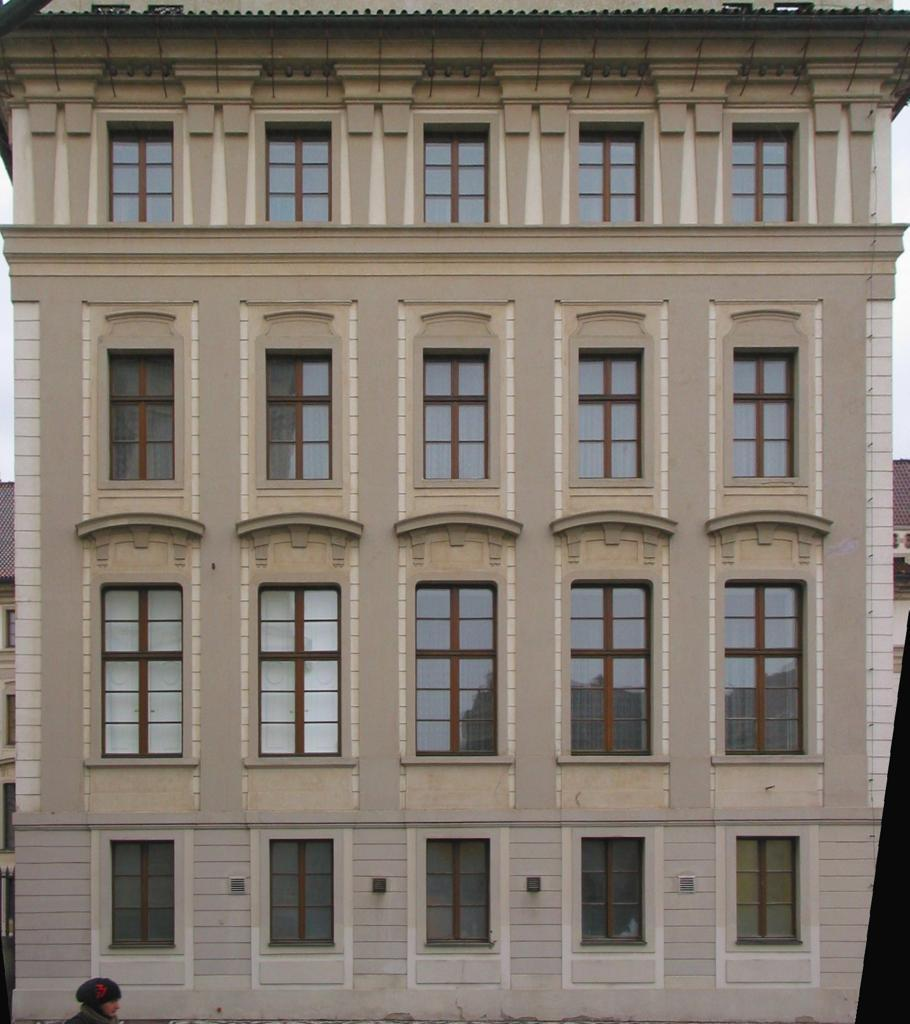window: (259, 583, 342, 757), (725, 579, 807, 755), (101, 583, 183, 758), (572, 580, 653, 757), (416, 582, 498, 756), (108, 349, 175, 480), (266, 349, 332, 480), (734, 347, 800, 478), (423, 349, 490, 478), (579, 348, 643, 478), (738, 836, 802, 942), (107, 122, 174, 223), (266, 122, 332, 222), (426, 839, 489, 943), (733, 122, 799, 221), (579, 122, 644, 222), (270, 840, 333, 943), (112, 841, 174, 945), (582, 838, 644, 942), (425, 124, 490, 222)
